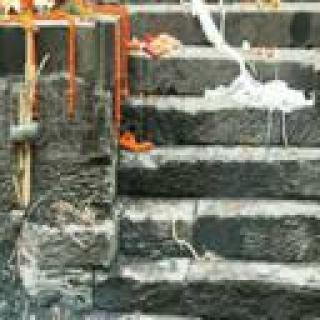fire: (0, 0, 41, 18)
